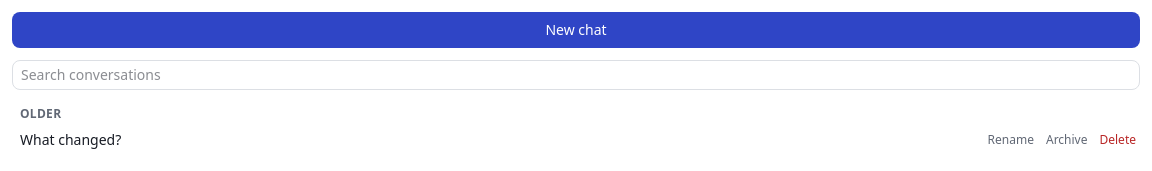
Sidebar › says when a search matches nothing rather than showing an empty list
The width and height of the screenshot is (1152, 171).
Check: the button "What changed?" is shown, box [12,126,980,154]
In the search field with placeholder "Search conversations": (576, 75) [12,60,1140,90], type "zzz"
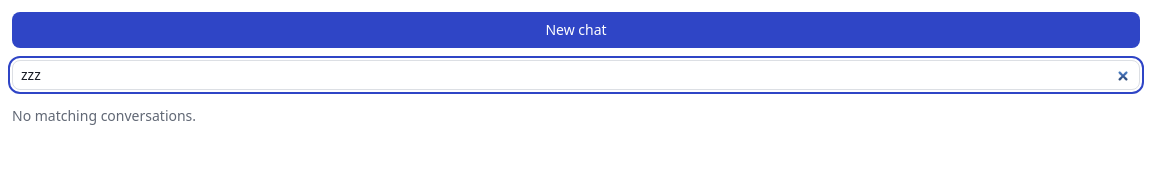
Check: the text "No matching conversations." is shown, box [12,106,196,125]
